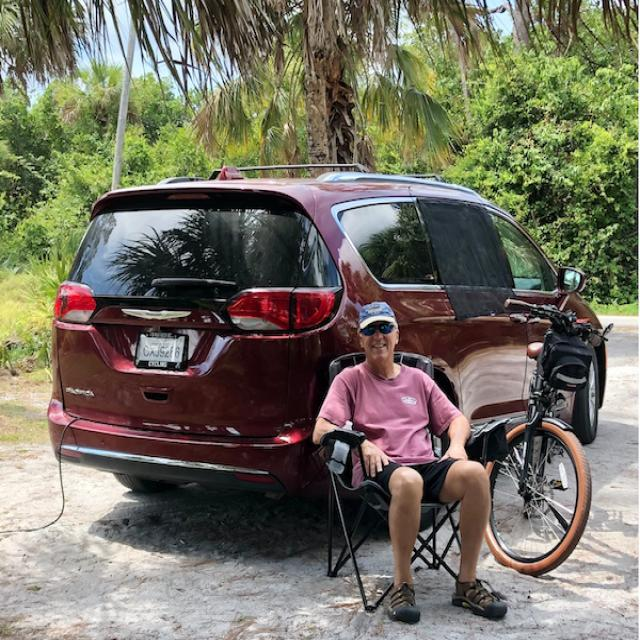bike: (481, 296, 601, 574)
minivan: (44, 160, 612, 508)
